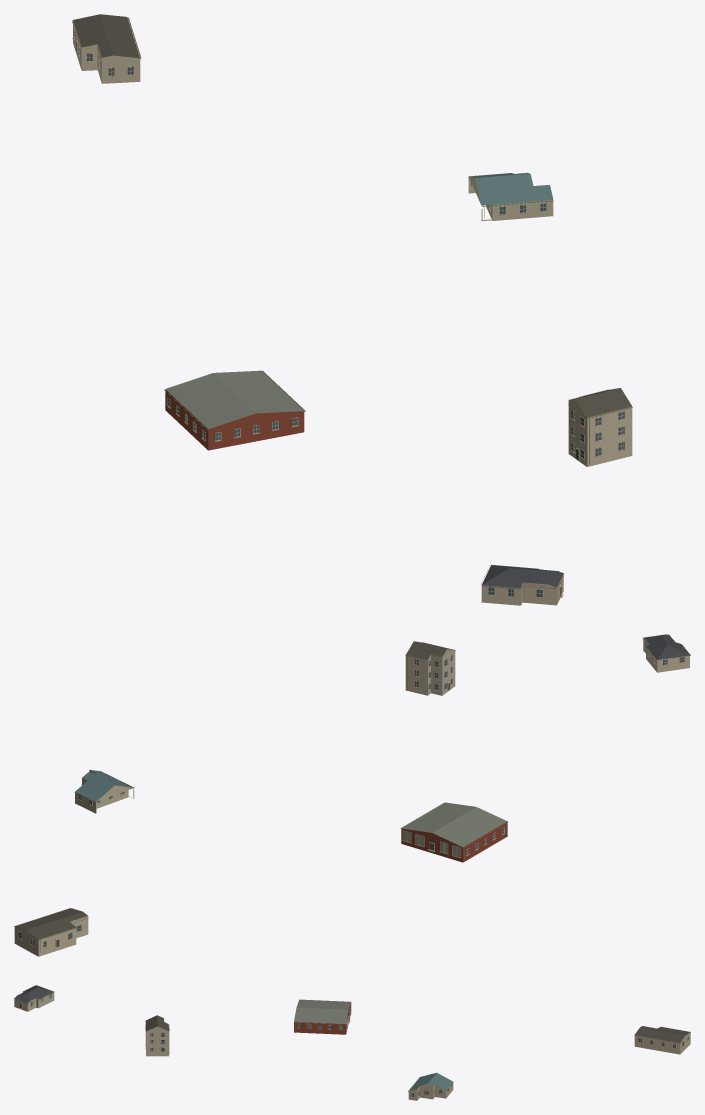
3 views of the same model, one above another, from view 1: azimuth 30°, elevation 25°; view 2: azimuth 150°, elevation 25°; view 3: azimuth 270°, elevation 25° (orthographic). The views are drawn at different scales.
Parts seen in each view (by area): view 1: -1_17_638341586_1, -1_17_638341587_2; view 2: -1_17_638341586_1, -1_17_638341587_2; view 3: -1_17_638341586_1, -1_17_638341587_2.
Part boxes in pixels (x1,y1,x2,y2): -1_17_638341586_1: (72, 14, 632, 605); -1_17_638341587_2: (165, 389, 304, 450); -1_17_638341586_1: (14, 634, 690, 956); -1_17_638341587_2: (401, 821, 507, 862); -1_17_638341586_1: (14, 985, 690, 1100); -1_17_638341587_2: (294, 1003, 351, 1034).
Size of the model in its own units: 108 by 22.35 by 273.
